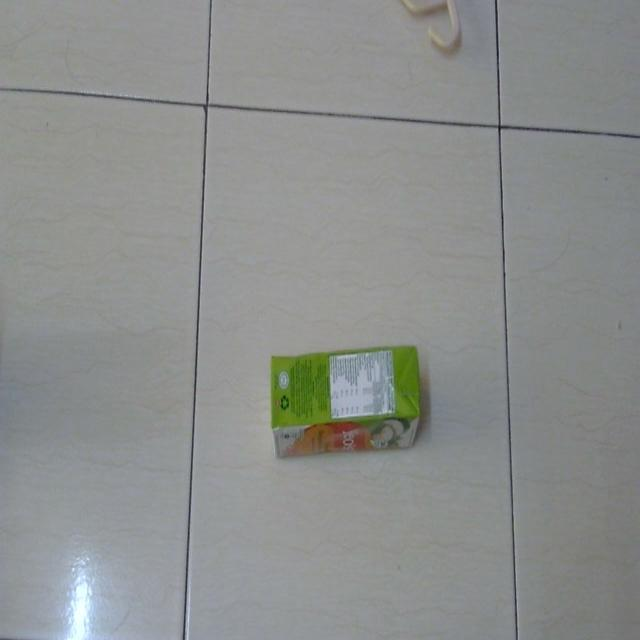plastic_laydown_0rotation: (264, 337, 426, 468)
